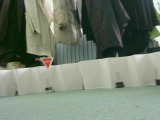stop: (39, 56, 55, 71)
